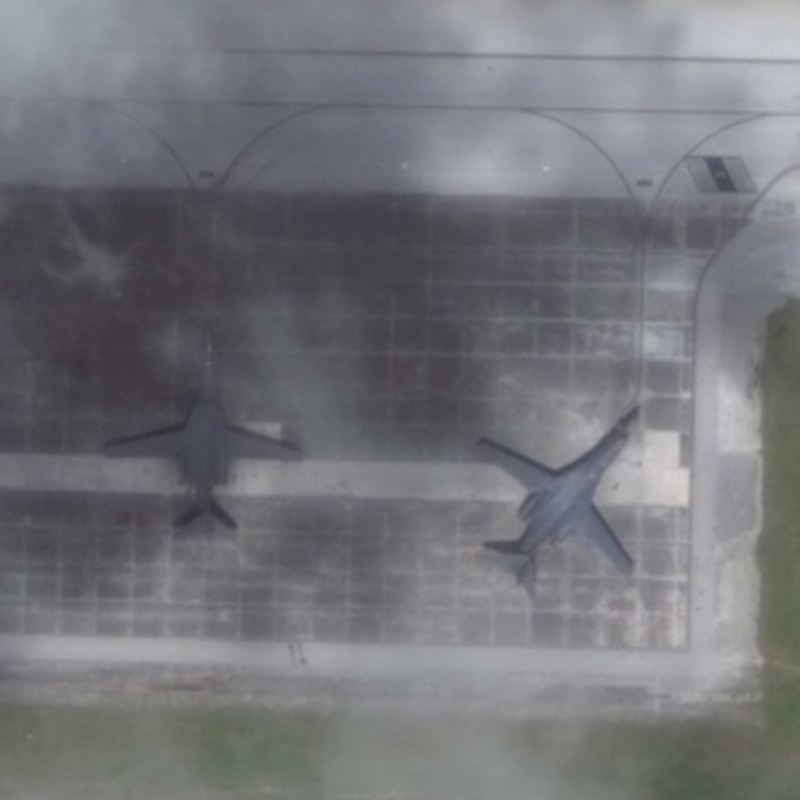A10: (96, 317, 306, 543), (460, 407, 655, 604)
